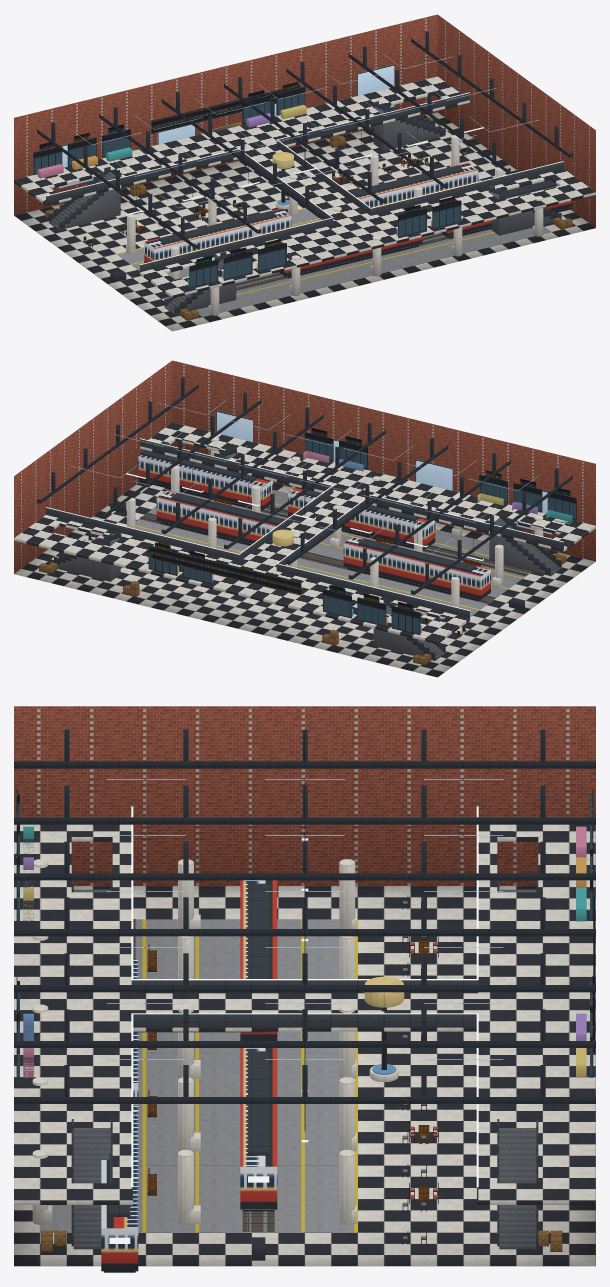
Rendered from station.glb.
3 renders of one model, top to bottom at view 1: azimuth 30°, elevation 25°; view 2: azimuth 150°, elevation 25°; view 3: azimuth 270°, elevation 25°, orthographic. The views are drawn at different scales.
Visible parts, largest first — view 1: Map; view 2: Map; view 3: Map.
Boxes of the visible parts, x1=… form: Map: x1=14, y1=14, x2=595, y2=331; Map: x1=14, y1=360, x2=595, y2=677; Map: x1=14, y1=706, x2=595, y2=1272.
Size of the model in its own units: 70.07 by 15 by 44.
18 materials, 17 textured.
